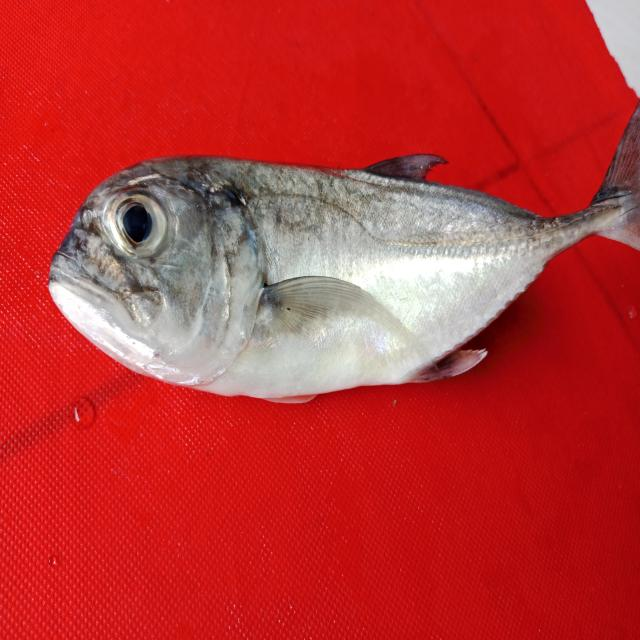ikan: (23, 126, 597, 420)
